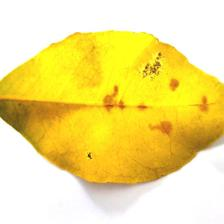black spot: (79, 38, 221, 152)
